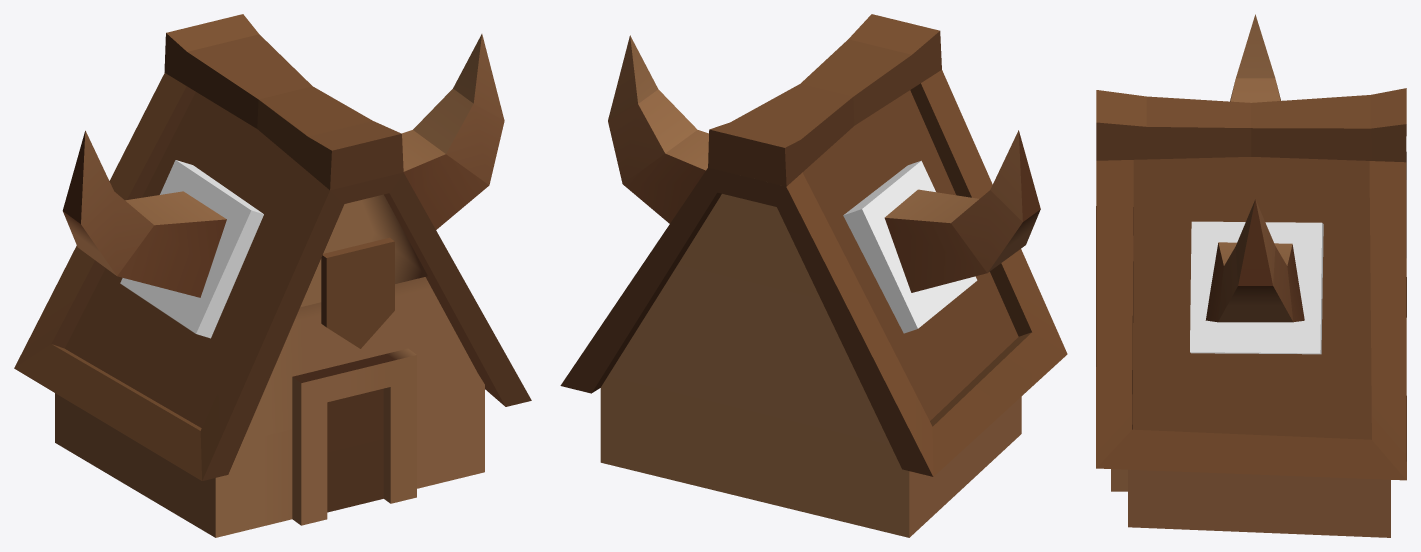
The model's file is Building_CityHall_Lv2.fbx.
3 views of the same model, side by side, from view 1: azimuth 30°, elevation 25°; view 2: azimuth 150°, elevation 25°; view 3: azimuth 270°, elevation 25° (orthographic). The views are drawn at different scales.
Parts seen in each view (by area): view 1: Building_CityHall_Lv2; view 2: Building_CityHall_Lv2; view 3: Building_CityHall_Lv2.
Part boxes in pixels (box(x1,y1,x2,y2)): Building_CityHall_Lv2: box(14, 14, 531, 537); Building_CityHall_Lv2: box(560, 14, 1067, 537); Building_CityHall_Lv2: box(1096, 14, 1406, 537).
Bounding box in the file's own units: 1.11 × 0.9351 × 0.735.
